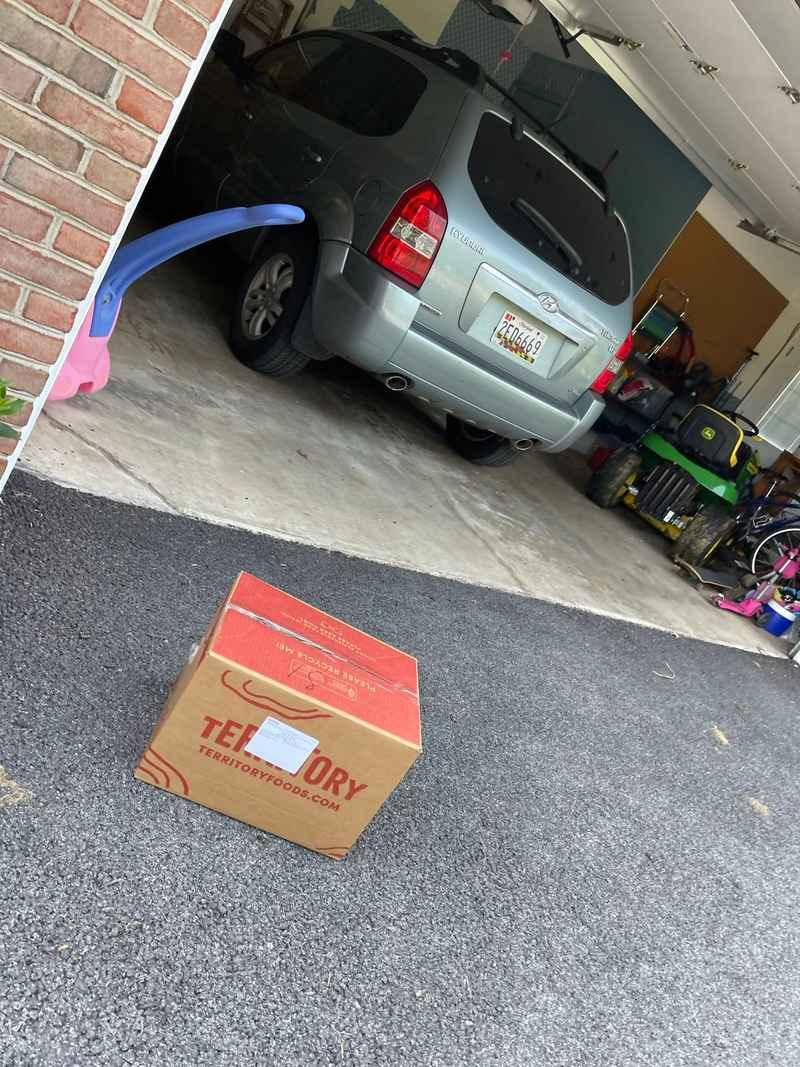package: (141, 564, 429, 865)
